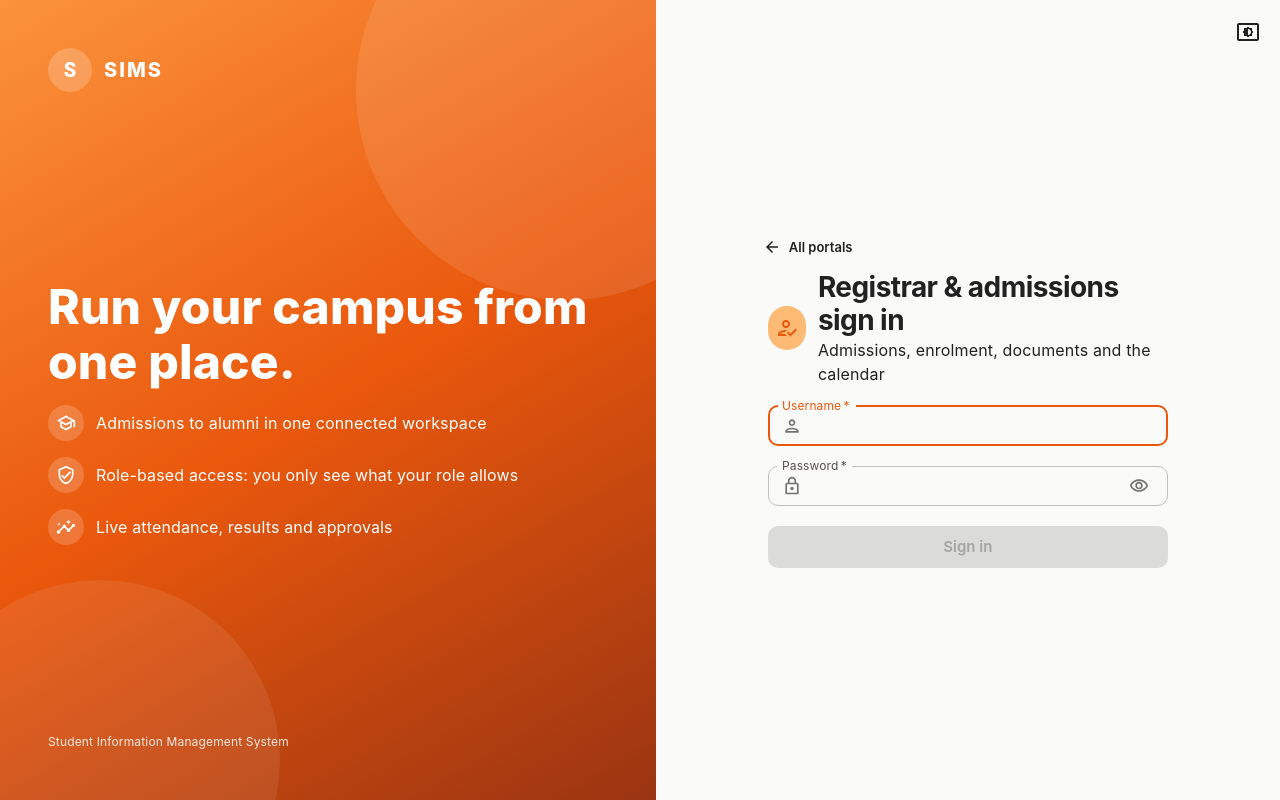
Test: application shell › shows a clear message when credentials are rejected
Type "x" into the field labelled "Username *".
click(989, 426); type("x")  # box [810,406,1168,446]
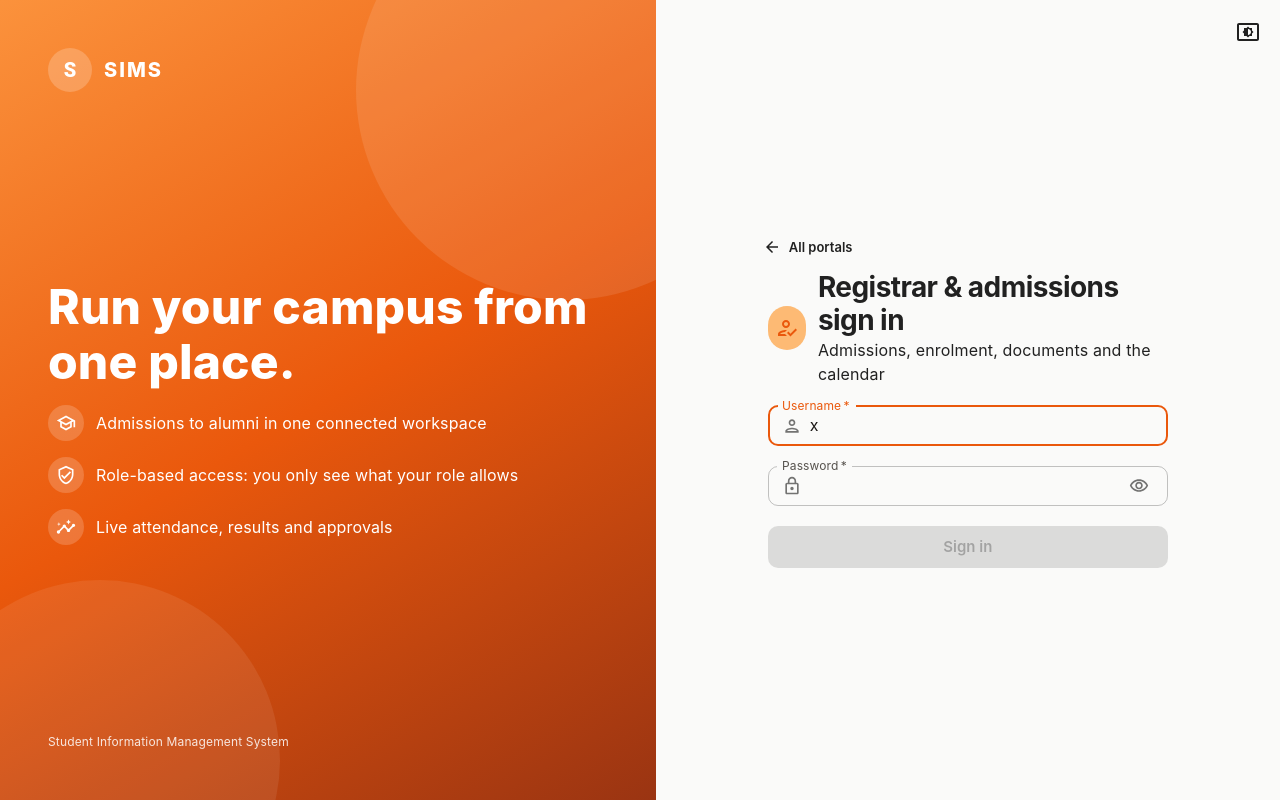
Type "y" into the password field labelled "Password *".
click(963, 486); type("y")  # box [810,466,1116,506]
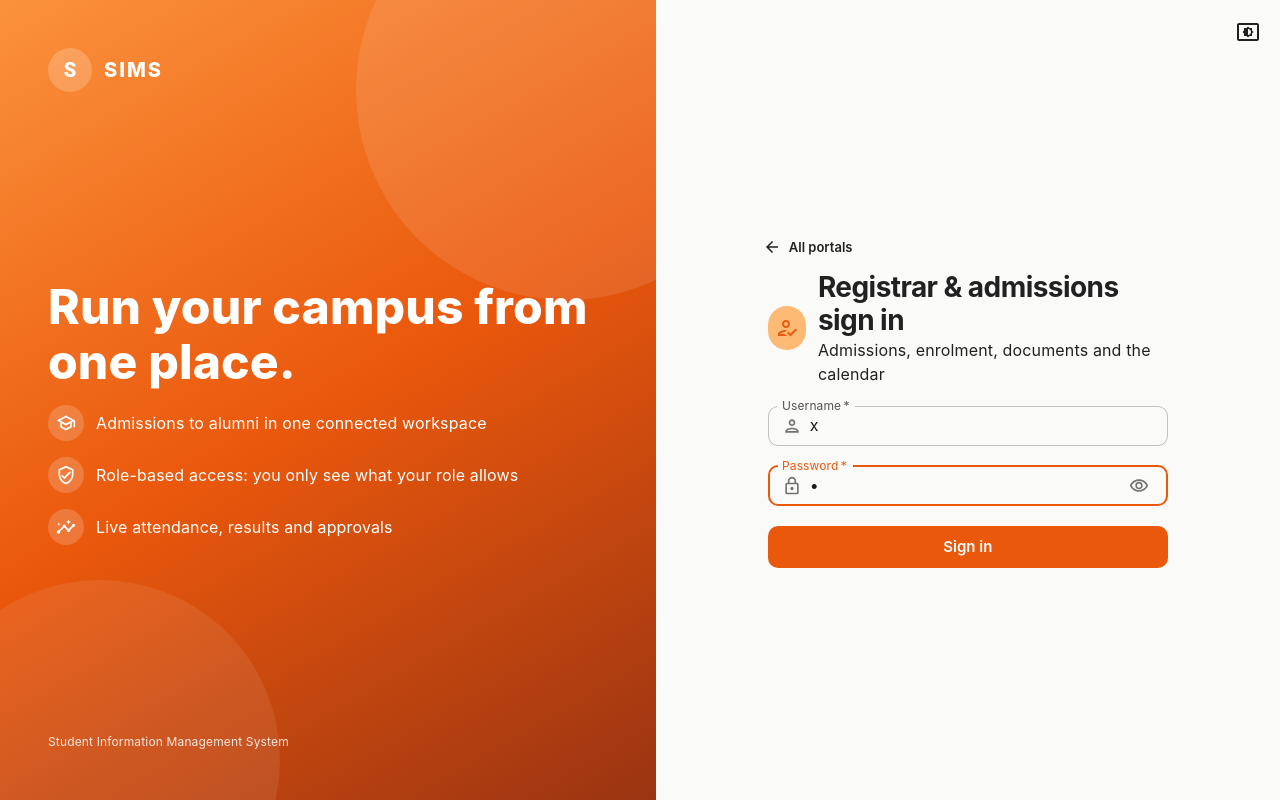
Click the button "Sign in".
click(968, 547)  # box [768,526,1168,568]
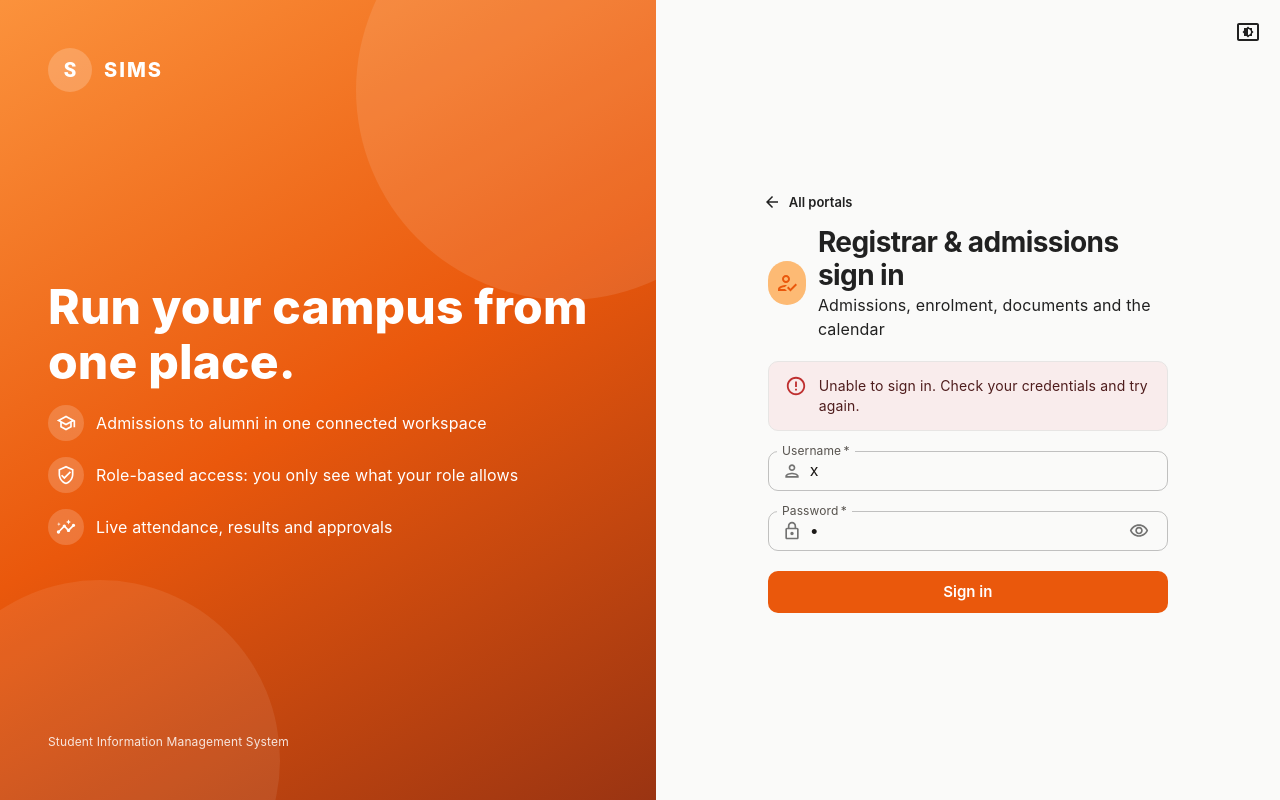
Now the text "Unable to sign in. Check your credentials and try again." is shown, box [819,368,1151,424]
